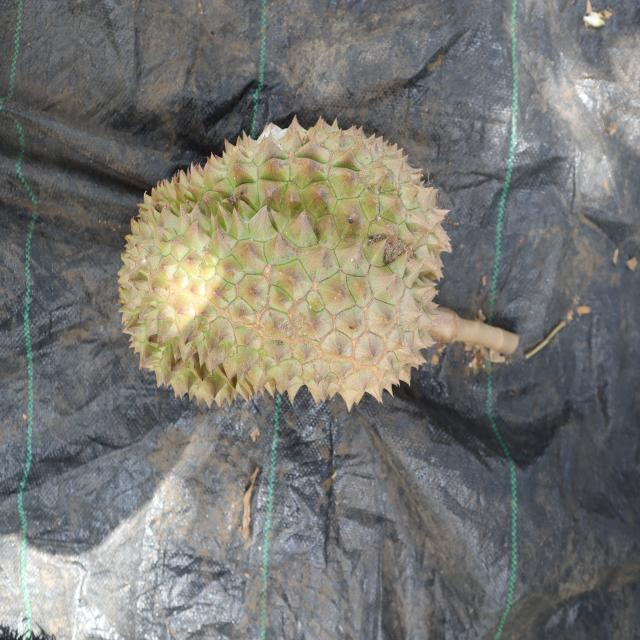mature: (119, 117, 453, 414)
